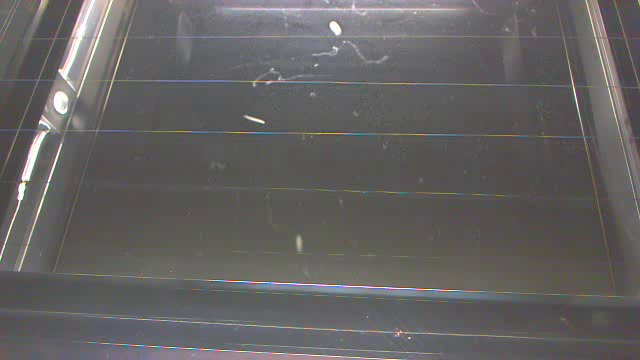alpha: (242, 115, 268, 125), (328, 21, 345, 35), (295, 234, 304, 253)
